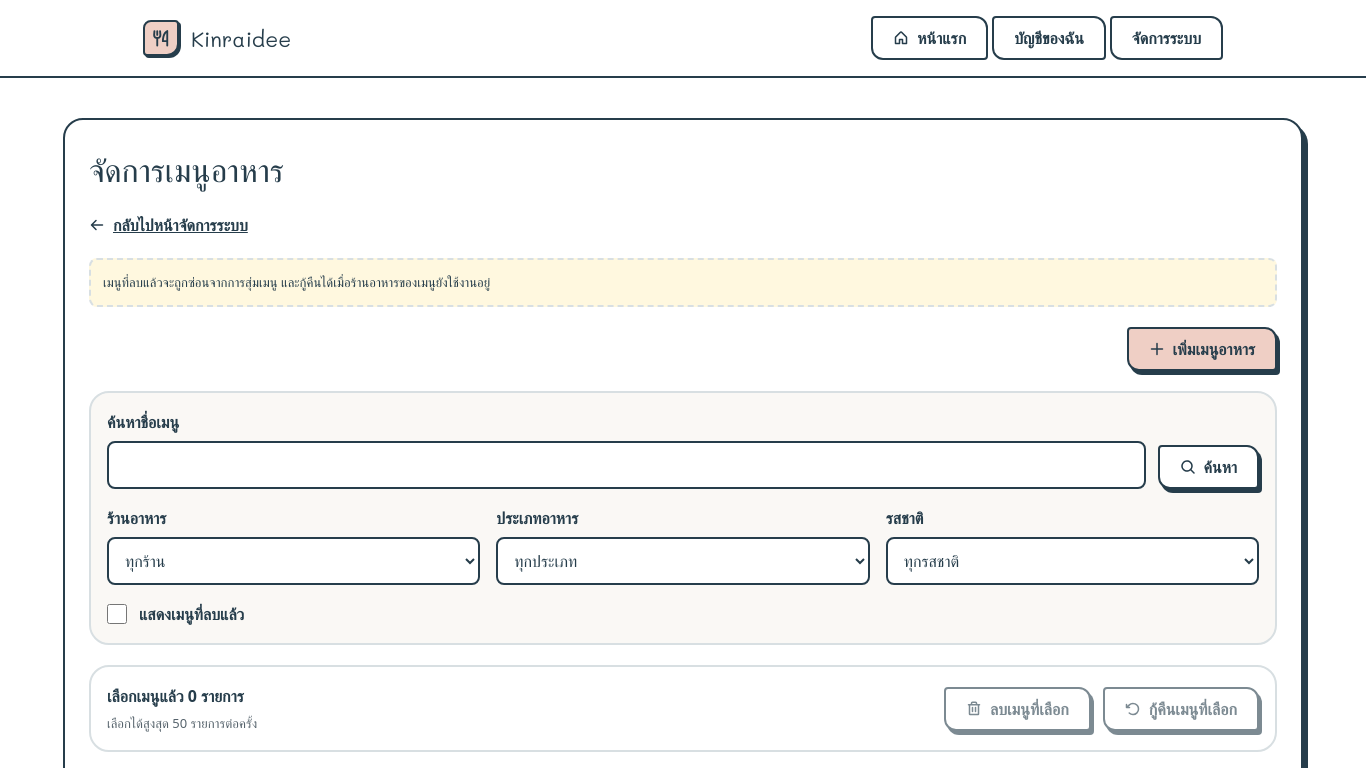
Test case: MenuItemsPage create and edit › validates relations, tastes, price, and localized names, focusing the first invalid field
This screenshot has width=1366, height=768.
Click the button "เพิ่มเมนูอาหาร": (1202, 349) [1126,327,1277,371]
(page scrolled)
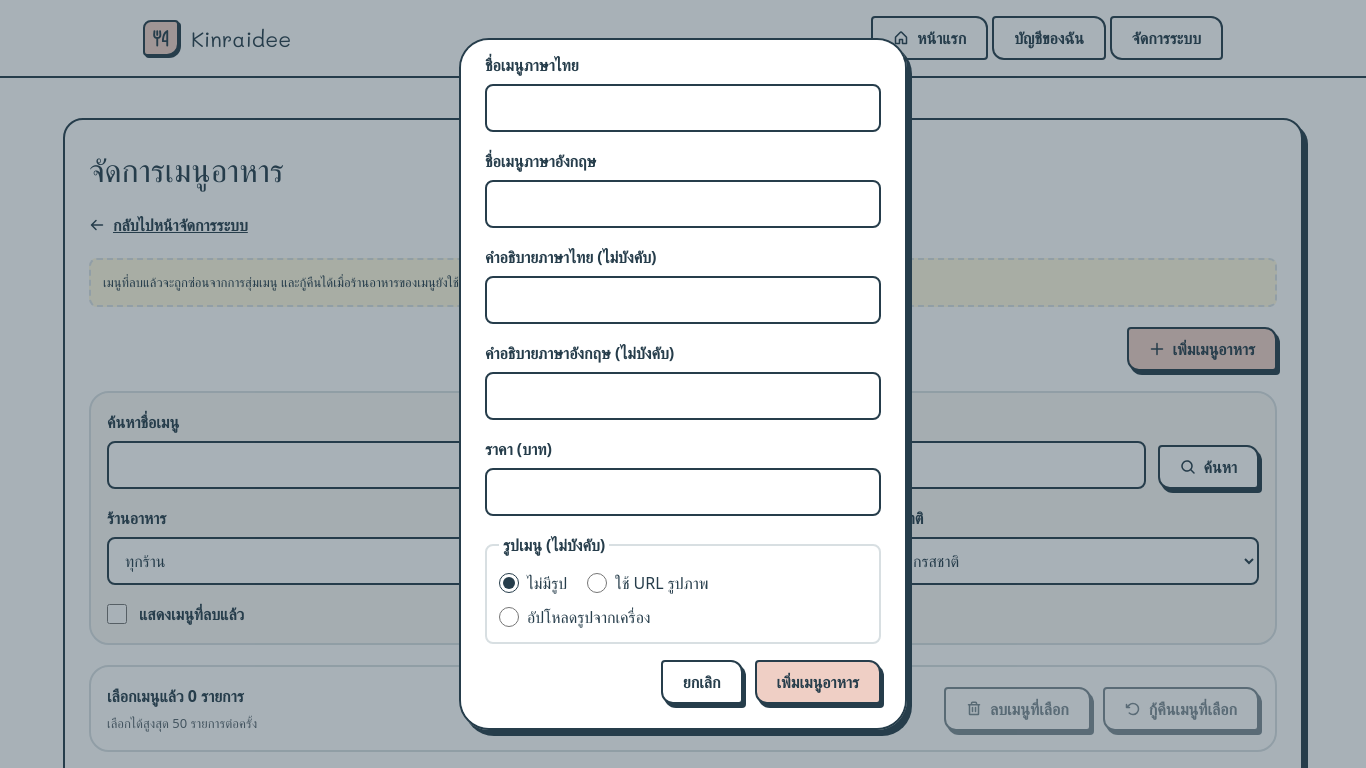
Click the button "เพิ่มเมนูอาหาร": (818, 682) [754,660,881,704]
(page scrolled)
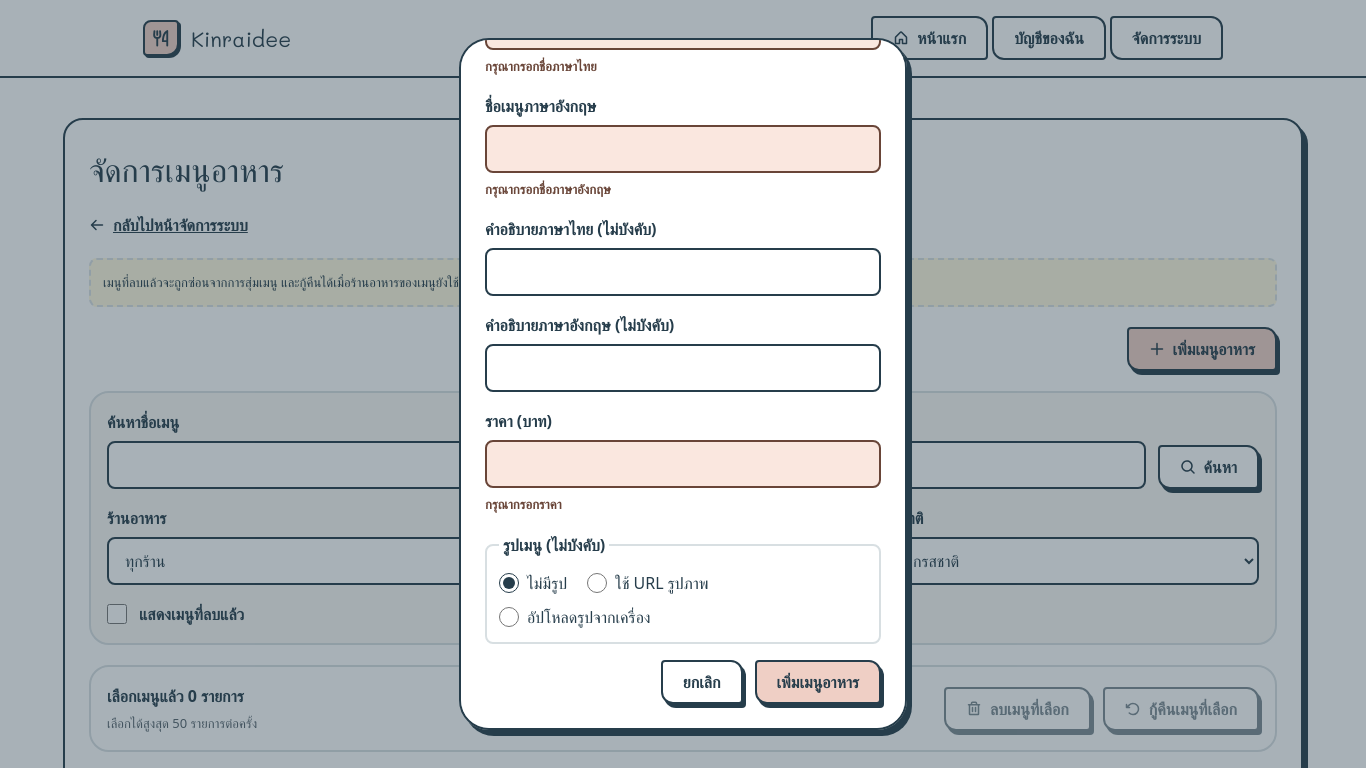
Expected: the text "กรุณากรอกชื่อภาษาไทย" is shown, [485,57,597,75]
Expected: the text "กรุณากรอกชื่อภาษาอังกฤษ" is shown, [485,180,611,198]
Expected: the text "กรุณากรอกราคา" is shown, [485,495,562,513]
